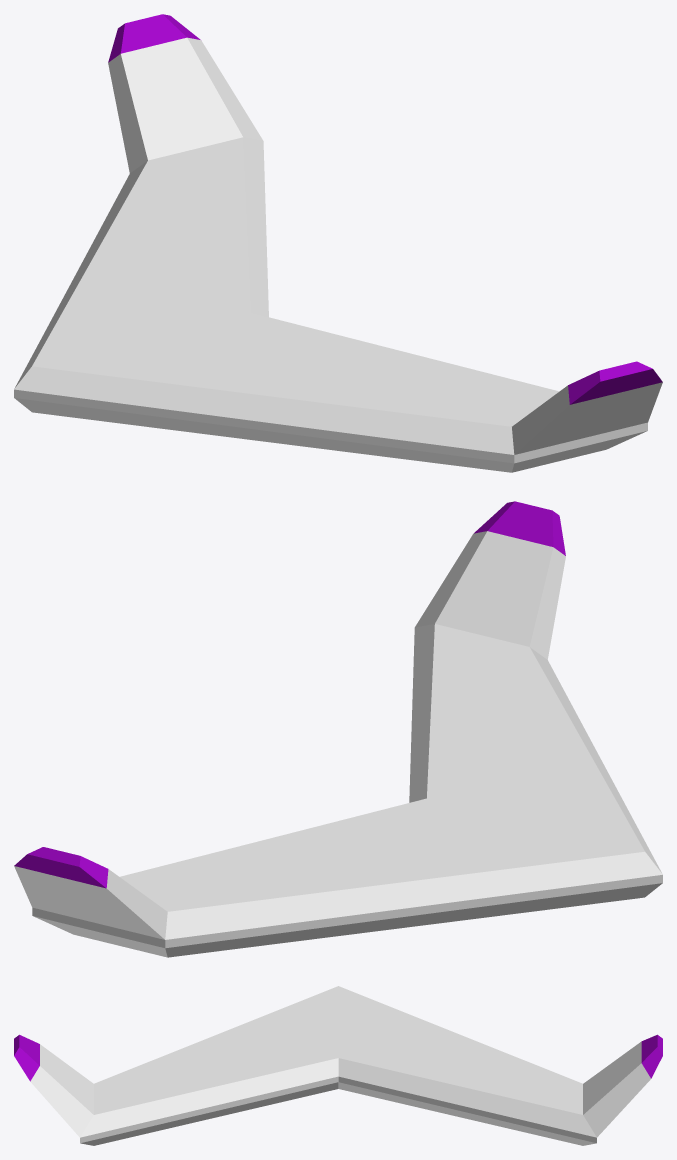
File: Ailes_4.FBX
3 views of the same model, one above another, from view 1: azimuth 30°, elevation 25°; view 2: azimuth 150°, elevation 25°; view 3: azimuth 270°, elevation 25° (orthographic). The views are drawn at different scales.
Parts seen in each view (by area): view 1: Box057; view 2: Box057; view 3: Box057.
Part boxes in pixels (x1,y1,x2,y2): Box057: (14, 14, 662, 472); Box057: (14, 501, 662, 957); Box057: (14, 986, 662, 1145).
Size of the model in its own units: 60.69 by 17.71 by 115.
